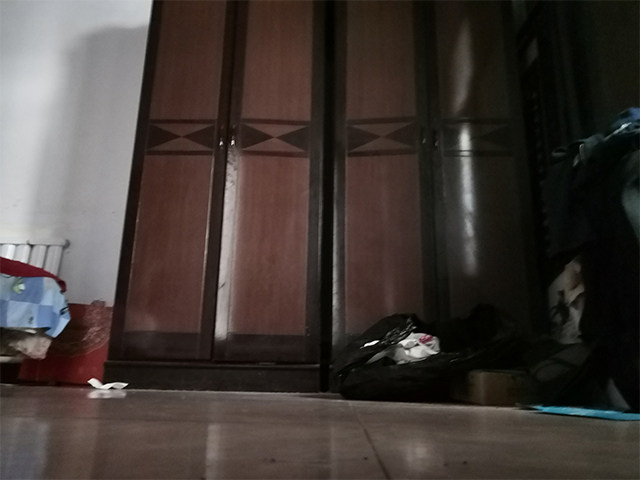cabinet: (101, 20, 530, 394)
